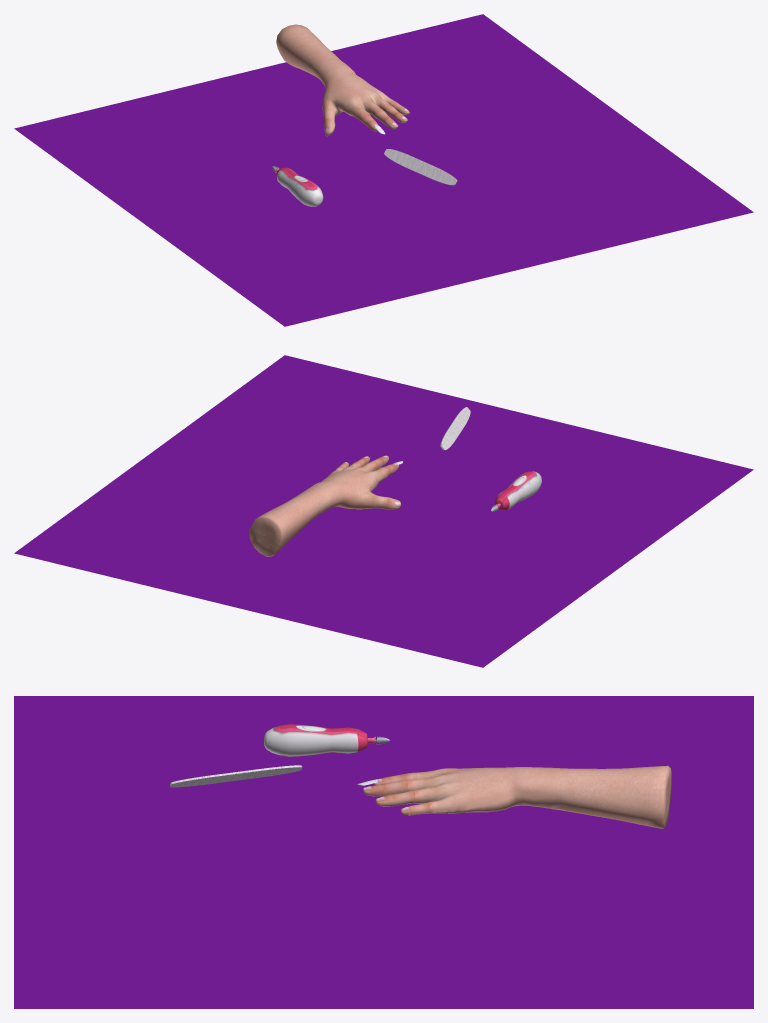
File: Nail filing Animation .fbx
3 renders of one model, top to bottom at view 1: azimuth 30°, elevation 25°; view 2: azimuth 150°, elevation 25°; view 3: azimuth 270°, elevation 25°, orthographic. The views are drawn at different scales.
Parts seen in each view (by area): view 1: z, Hand, Tool, Filing tool; view 2: z, Hand, Tool, Filing tool; view 3: z, Hand, Tool, Filing tool.
Part boxes in pixels (left/top/right/bottom): z: left=14, top=14, right=753, bottom=326; Hand: left=276, top=24, right=409, bottom=136; Tool: left=272, top=166, right=323, bottom=206; Filing tool: left=384, top=149, right=457, bottom=185; z: left=14, top=355, right=753, bottom=667; Hand: left=249, top=455, right=400, bottom=556; Tool: left=490, top=471, right=541, bottom=511; Filing tool: left=440, top=407, right=470, bottom=450; z: left=14, top=696, right=753, bottom=1008; Hand: left=363, top=765, right=671, bottom=828; Tool: left=264, top=724, right=389, bottom=756; Filing tool: left=170, top=765, right=302, bottom=787.
Size of the model in its own units: 7531 by 1027 by 7531.
Materials: 5 (3 with a texture image).
